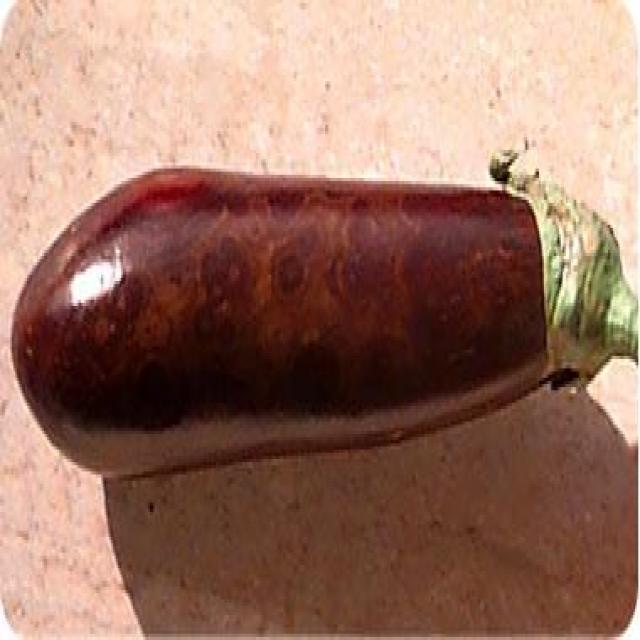eggplant: (11, 147, 637, 478)
